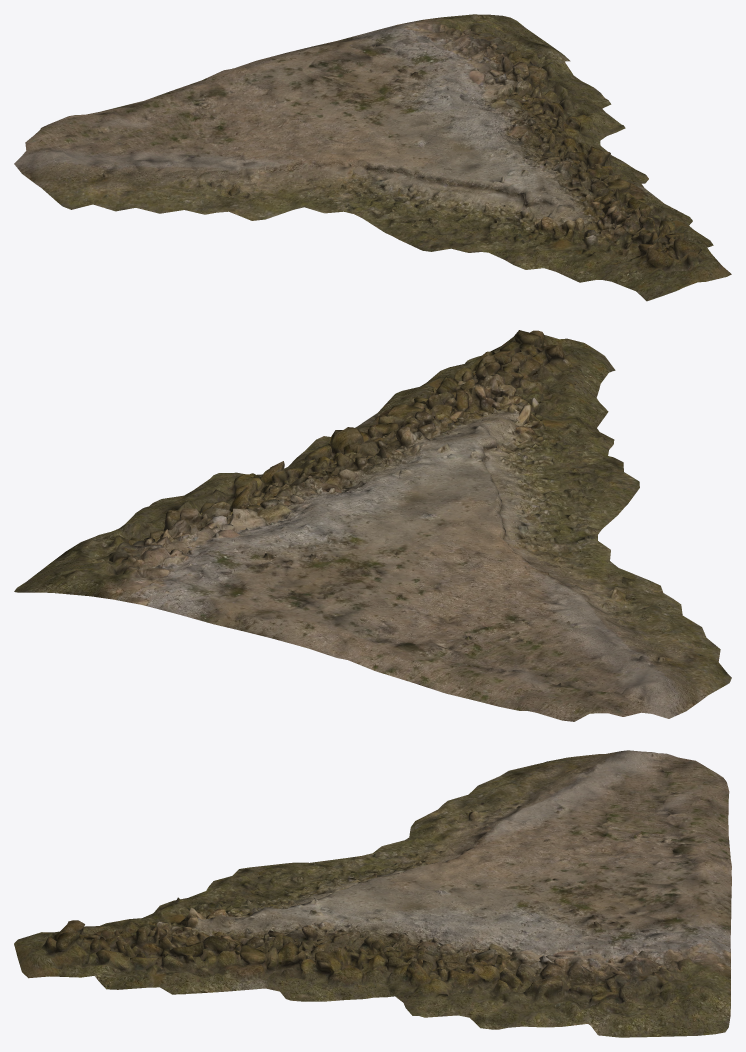
File: coast-rocks.glb
The picture shows the model from 3 angles, top to bottom: view 1: azimuth 30°, elevation 25°; view 2: azimuth 150°, elevation 25°; view 3: azimuth 270°, elevation 25°; orthographic projection. The views are drawn at different scales.
Parts seen in each view (by area): view 1: coast_rocks_02; view 2: coast_rocks_02; view 3: coast_rocks_02.
Boxes of the visible parts, bbox=[...] form: coast_rocks_02: bbox=[14, 14, 731, 301]; coast_rocks_02: bbox=[14, 330, 731, 721]; coast_rocks_02: bbox=[14, 750, 731, 1037].
Bounding box in the file's own units: 45.96 × 3.06 × 49.46.
Materials: 1 (1 with a texture image).
